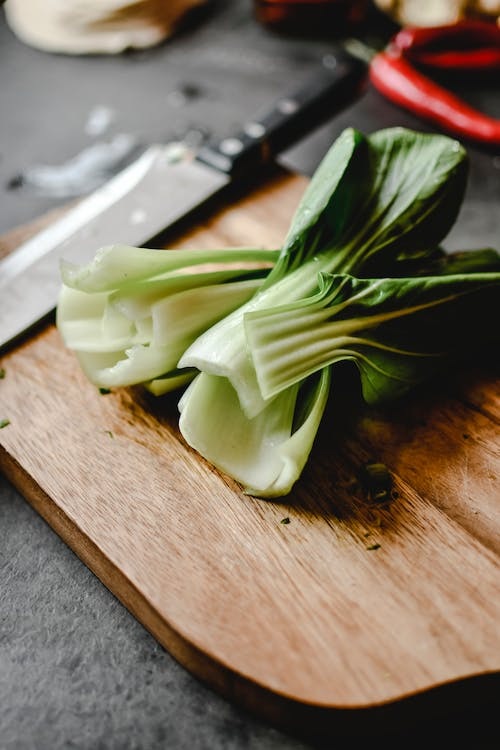knife: (0, 48, 362, 350)
